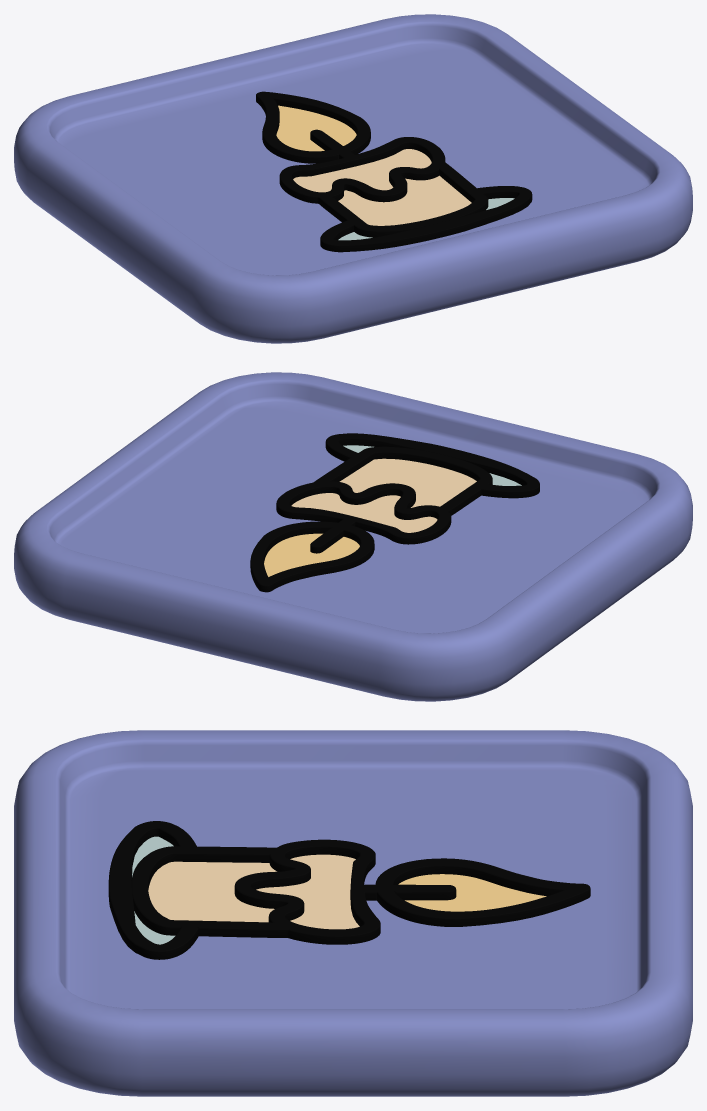
File: candle_tile.fbx
The picture shows the model from 3 angles, top to bottom: view 1: azimuth 30°, elevation 25°; view 2: azimuth 150°, elevation 25°; view 3: azimuth 270°, elevation 25°; orthographic projection. The views are drawn at different scales.
Visible parts, largest first — view 1: candle_cube, candle_lines; view 2: candle_cube, candle_lines; view 3: candle_cube, candle_lines.
Part boxes in pixels (x1,y1,x2,y2): candle_cube: [14, 14, 692, 343]; candle_lines: [256, 91, 532, 252]; candle_cube: [14, 372, 692, 701]; candle_lines: [250, 433, 539, 592]; candle_cube: [14, 730, 692, 1096]; candle_lines: [108, 821, 590, 959].
Bounding box in the file's own units: 1201 × 143 × 1128.
